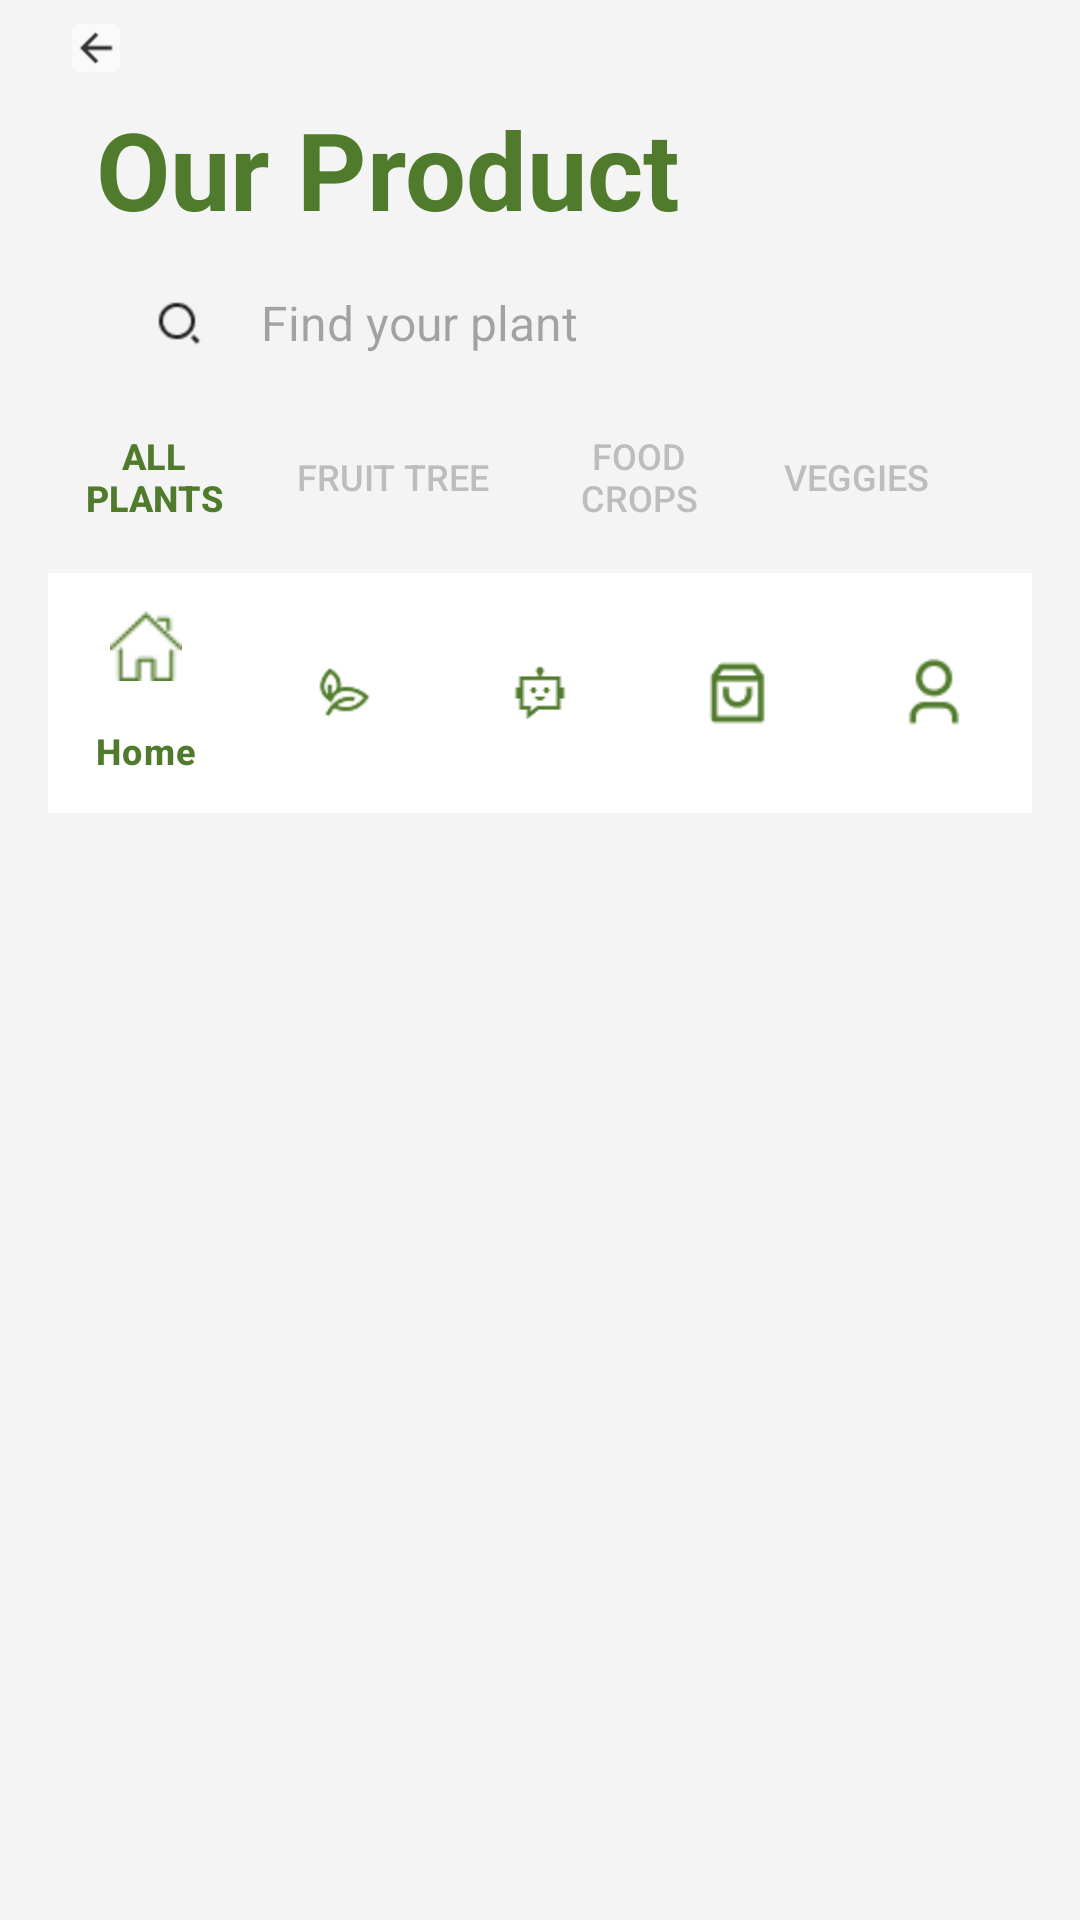

Where to tap for icons on this 1080px x 1920px app screen, as [x,y]:
Back: [96,48]
homepage search: [179,323]
